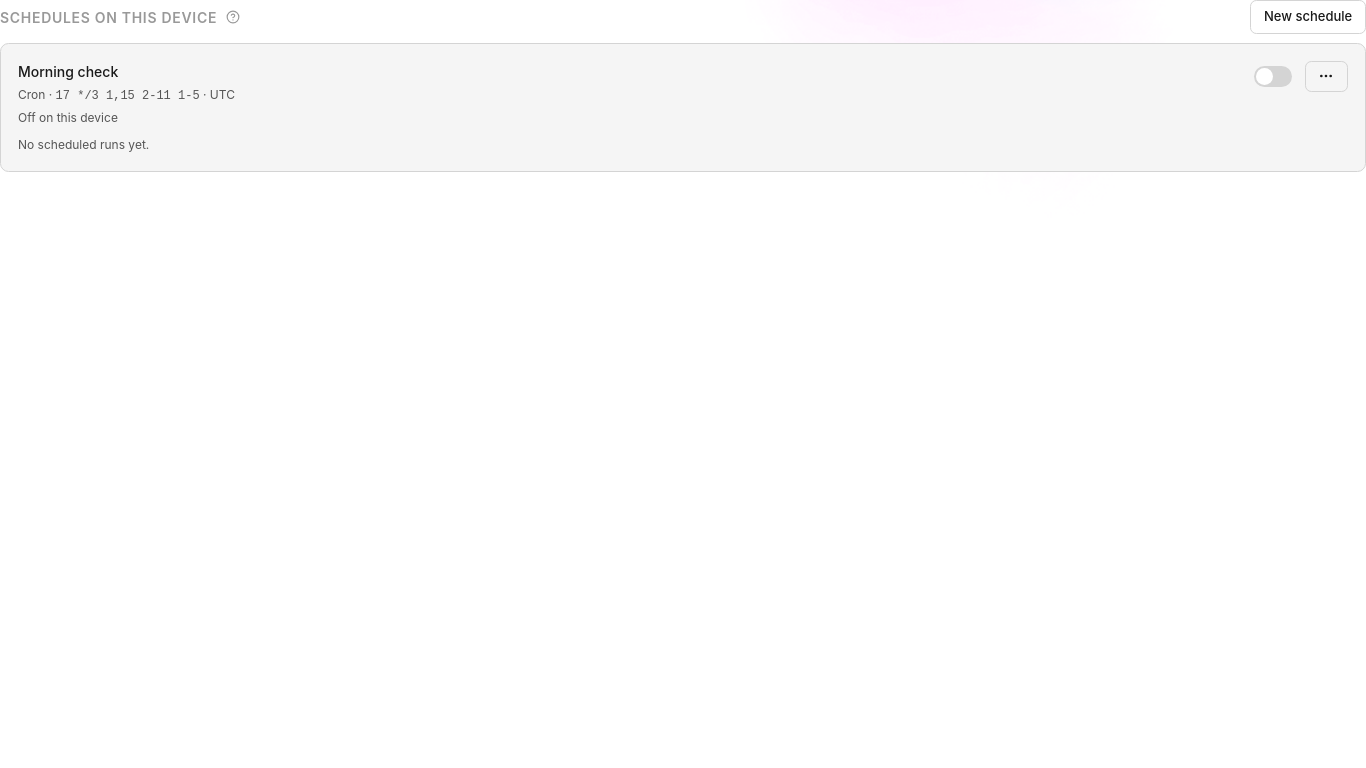
Test case: round trips advanced rules and preserves edits when the Job changes before saving
The image size is (1366, 768).
Step 1. Click the button named "Actions for Morning check" → click(1326, 76), box [1304, 61, 1348, 92]
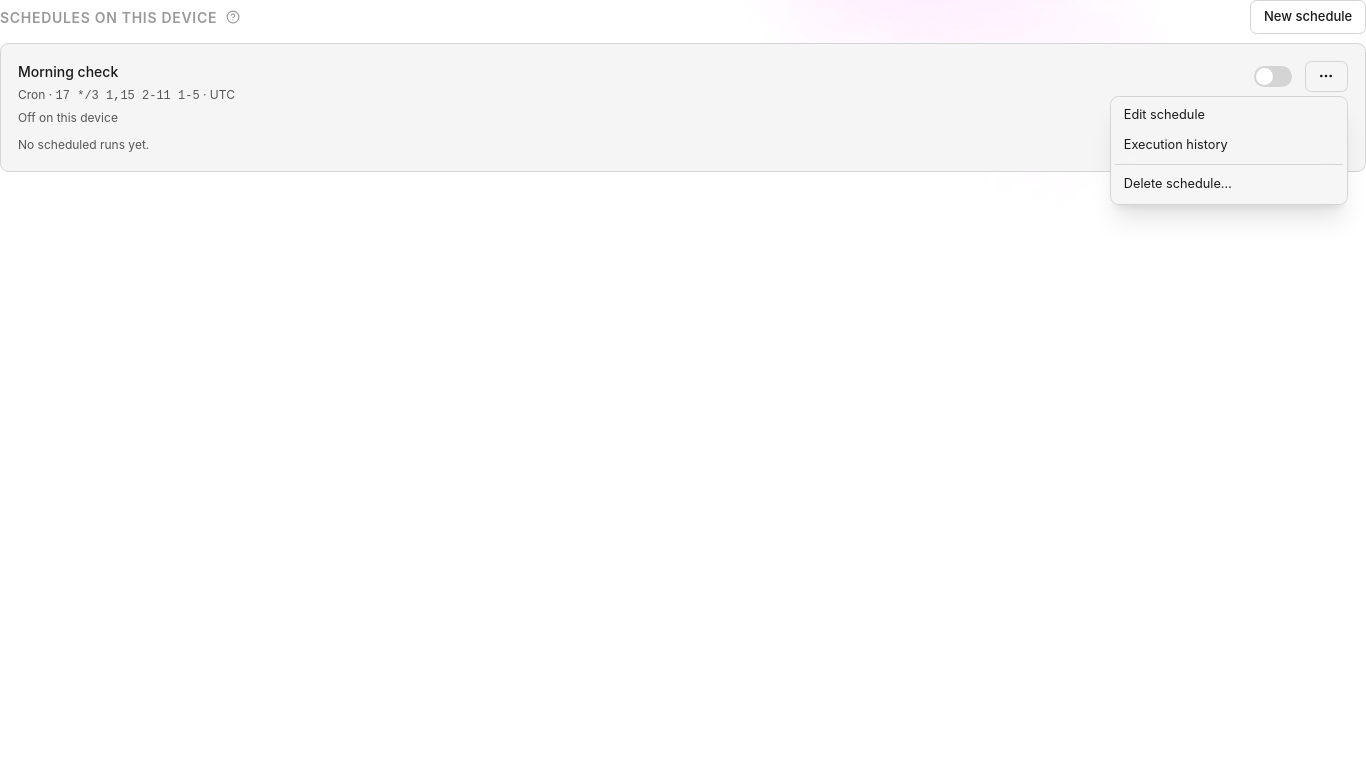
Step 2. Click the menu item "Edit schedule" → click(1229, 116), box [1115, 101, 1343, 130]
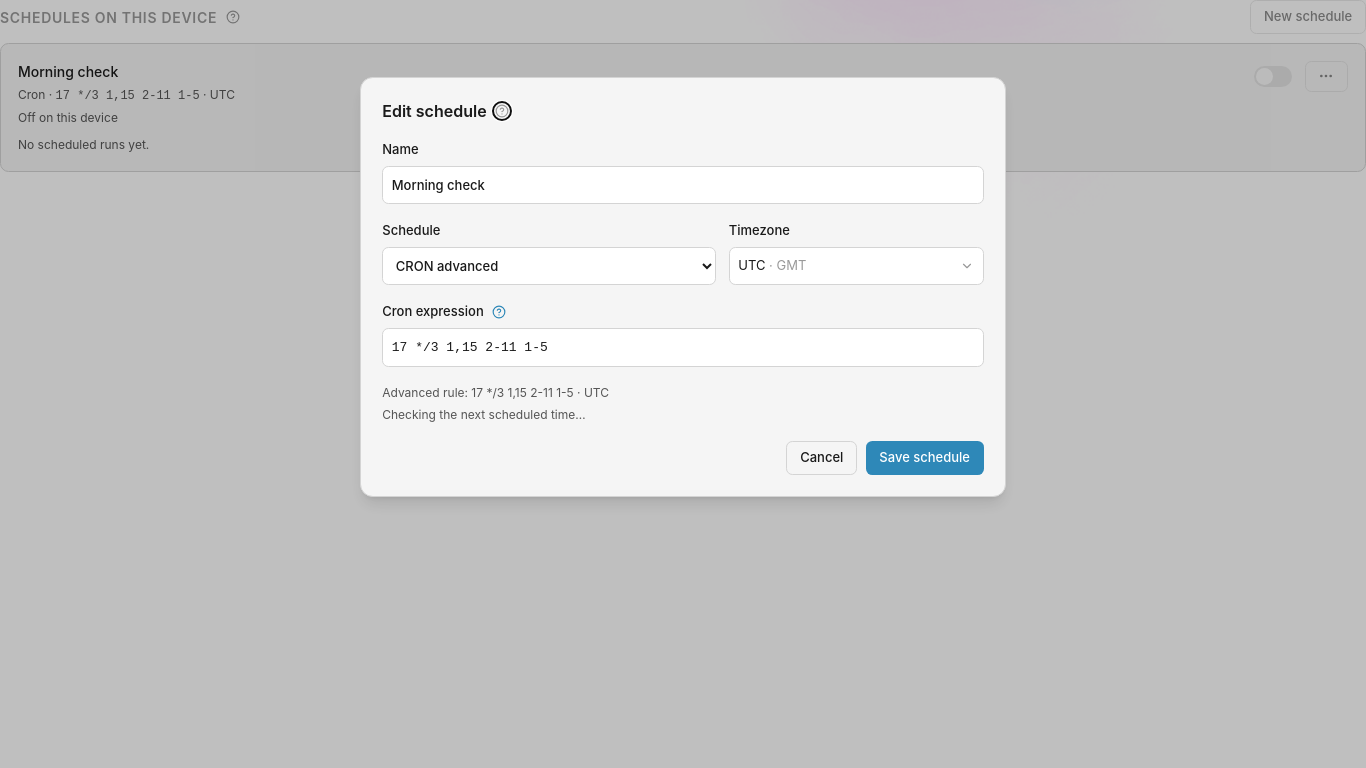
Check: the field labelled "Cron expression" holds "17 */3 1,15 2-11 1-5", box [382, 328, 984, 367]
Step 3. Replace the text in the field labelled "Name" with "Renamed check" → (683, 185), box [382, 166, 984, 204]
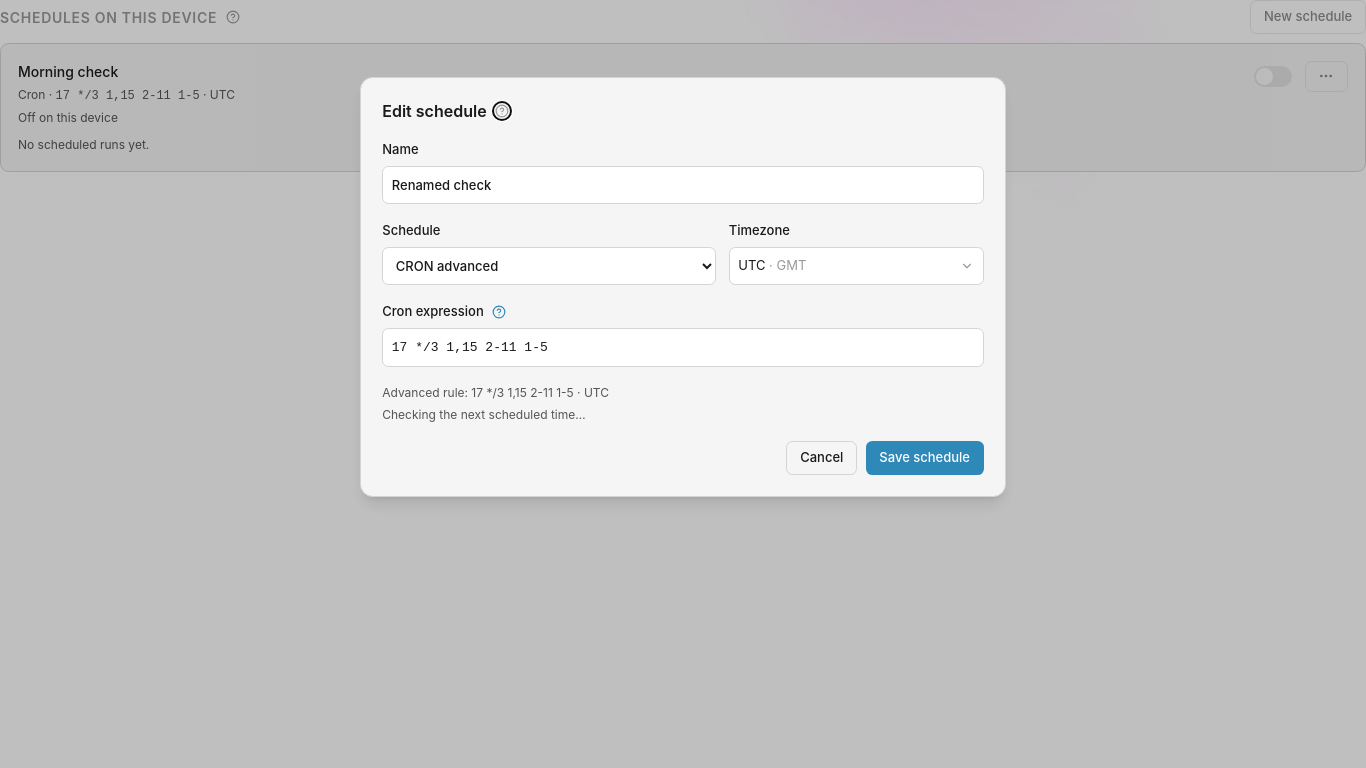
Step 4. Click the button "Save schedule" → click(925, 458), box [866, 441, 984, 475]
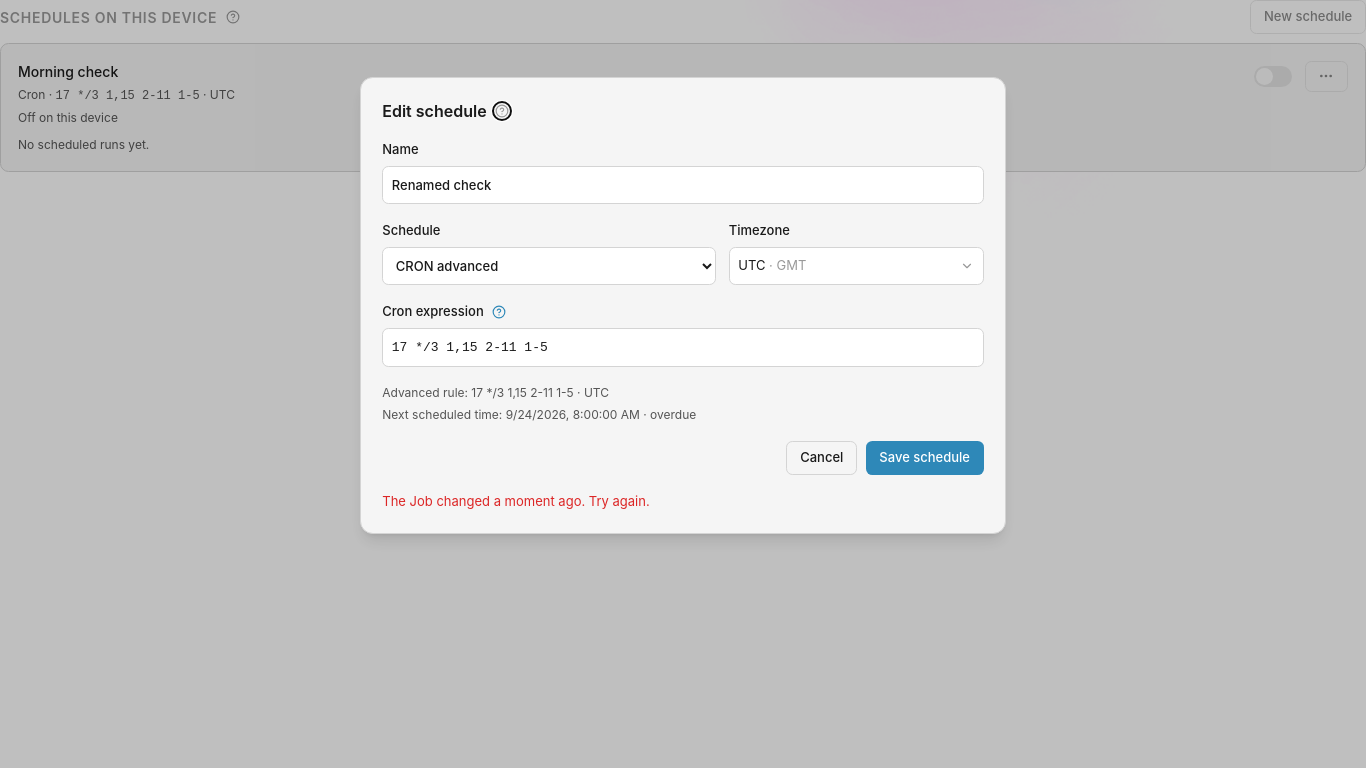
Check: the message shows "The Job changed a moment ago.", box [382, 493, 650, 509]
